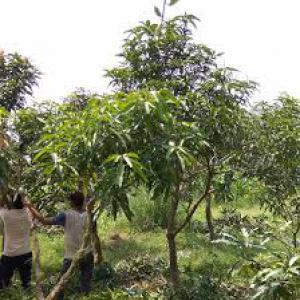Tree: (116, 15, 246, 286), (40, 82, 158, 268)
